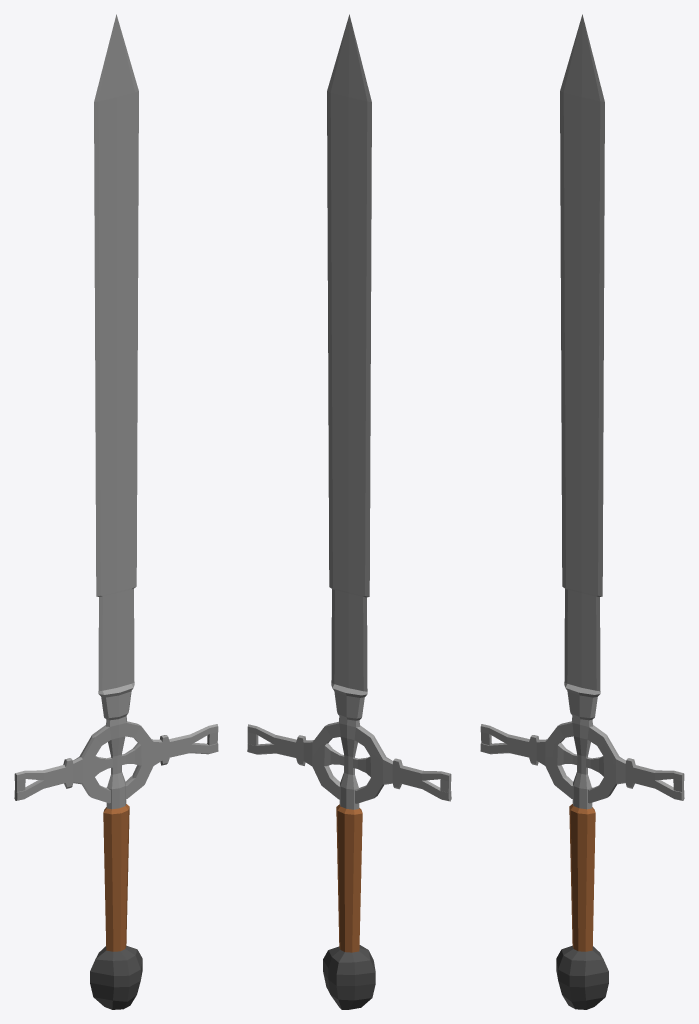
The model's file is CutterBoneless.fbx.
3 renders of one model, left to right at view 1: azimuth 30°, elevation 25°; view 2: azimuth 150°, elevation 25°; view 3: azimuth 330°, elevation 25°, orthographic.
Visible parts, largest first — view 1: Cutter; view 2: Cutter; view 3: Cutter.
Boxes of the visible parts, bbox=[...] form: Cutter: bbox=[14, 14, 218, 1009]; Cutter: bbox=[247, 14, 451, 1009]; Cutter: bbox=[480, 14, 684, 1009].
Bounding box in the file's own units: 125 × 585 × 27.65.
